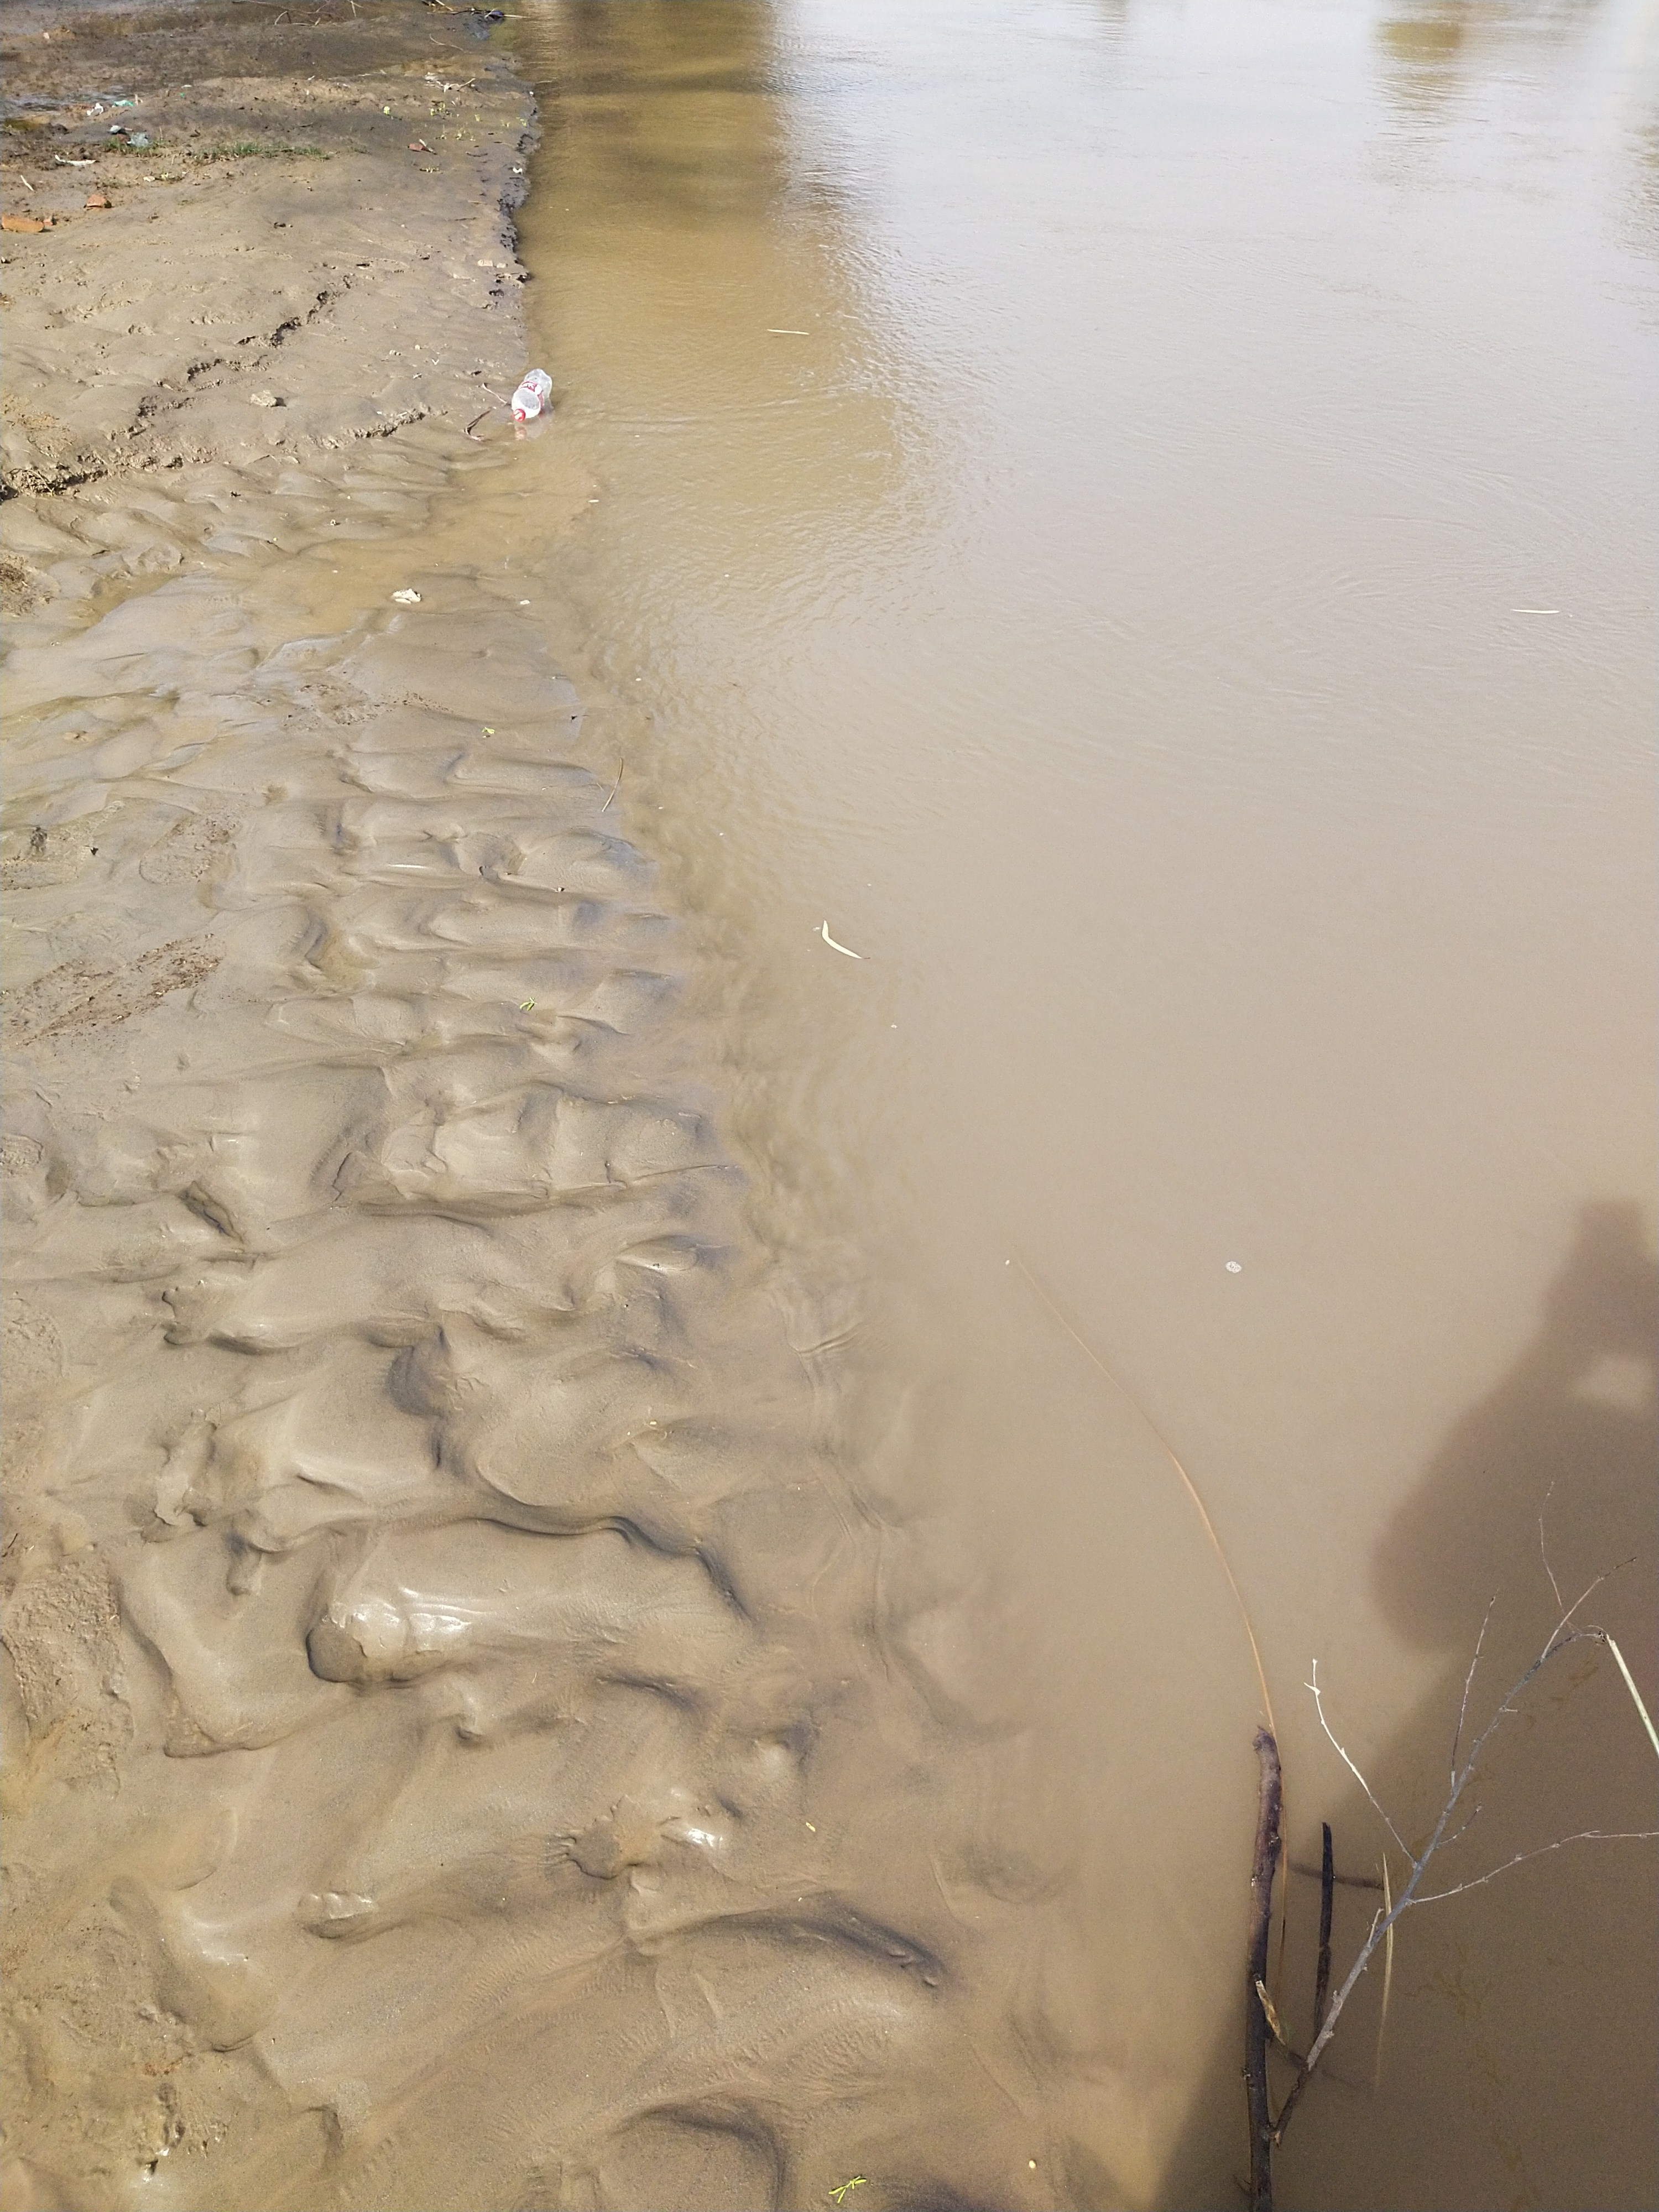Plastic Bottle: (511, 368, 552, 421)
